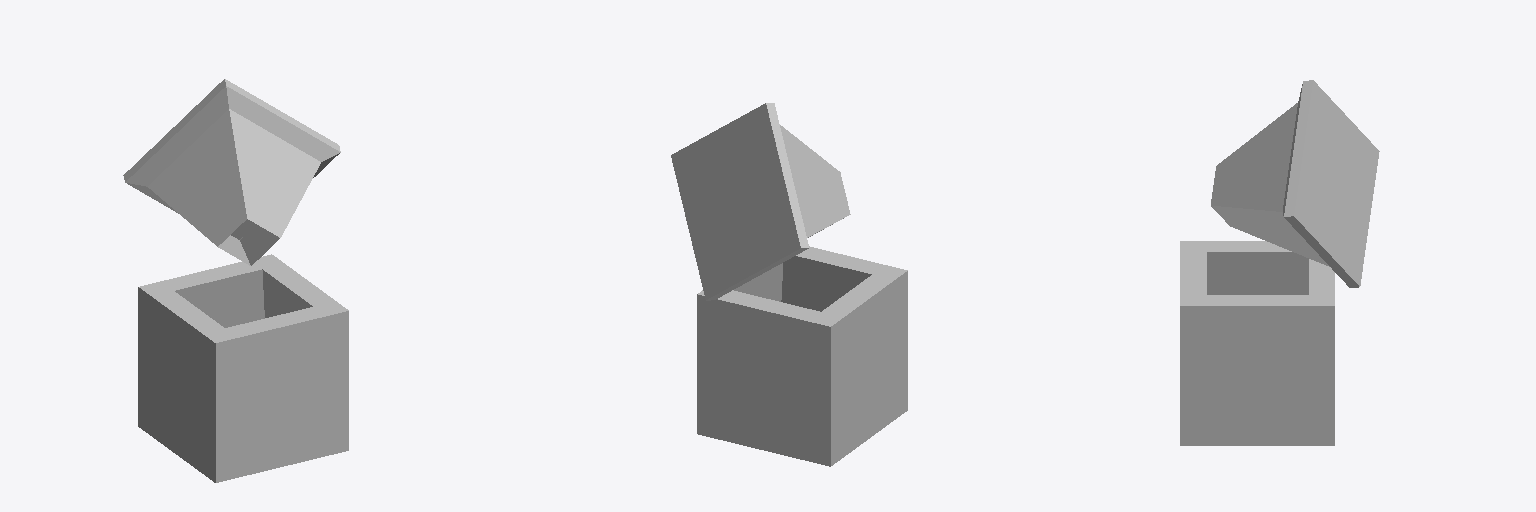
Rendered from AnimatedBox_000042.obj.
The picture shows the model from 3 angles: view 1: azimuth 30°, elevation 25°; view 2: azimuth 150°, elevation 25°; view 3: azimuth 270°, elevation 25°; orthographic projection.
Visible parts, largest first — view 1: Cube, Cube.001; view 2: Cube, Cube.001; view 3: Cube, Cube.001.
Part boxes in pixels (left/top/right/bottom): Cube: left=138, top=254, right=348, bottom=482; Cube.001: left=123, top=79, right=340, bottom=265; Cube: left=697, top=246, right=907, bottom=466; Cube.001: left=671, top=103, right=850, bottom=300; Cube: left=1180, top=241, right=1334, bottom=445; Cube.001: left=1211, top=80, right=1379, bottom=287.
Bounding box in the file's own units: 2.7 × 4.83 × 2.58.